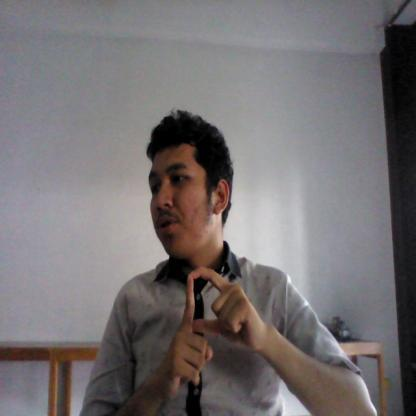D: (160, 262, 267, 396)
